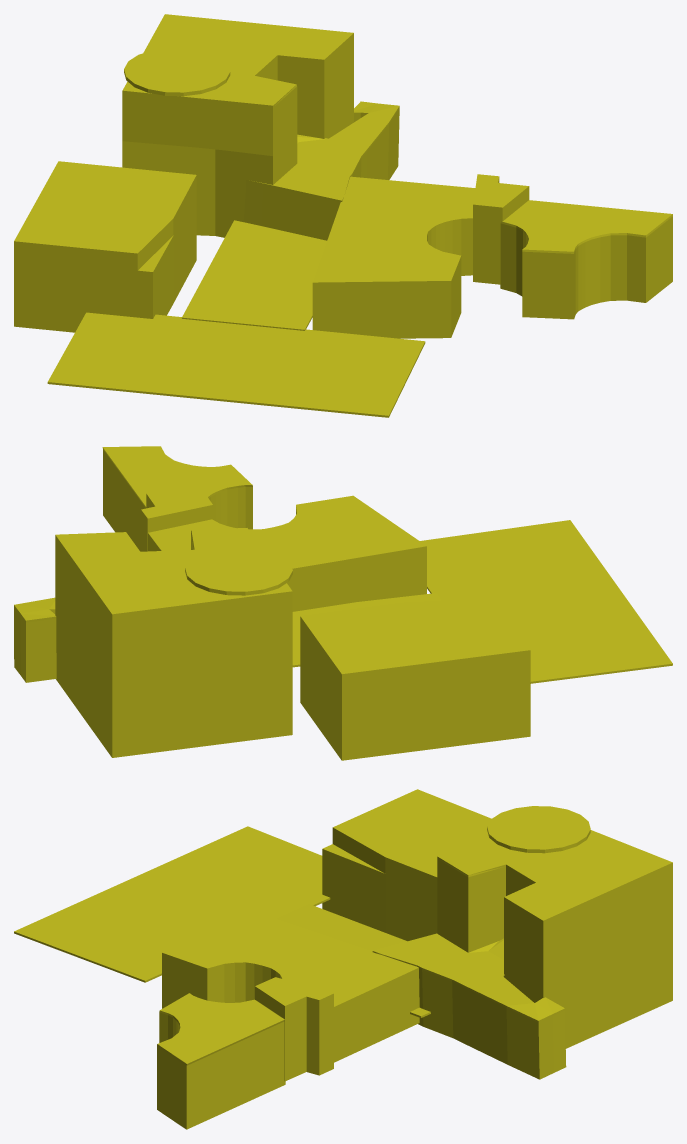
Rendered from PAM_8831_TAYS.FBX.
3 renders of one model, top to bottom at view 1: azimuth 30°, elevation 25°; view 2: azimuth 150°, elevation 25°; view 3: azimuth 270°, elevation 25°, orthographic. The views are drawn at different scales.
Visible parts, largest first — view 1: PAM_TAYS; view 2: PAM_TAYS; view 3: PAM_TAYS.
Boxes of the visible parts, bbox=[...] form: PAM_TAYS: bbox=[14, 14, 672, 417]; PAM_TAYS: bbox=[14, 446, 672, 760]; PAM_TAYS: bbox=[14, 789, 672, 1129].
Size of the model in its own units: 213 by 53.45 by 210.
